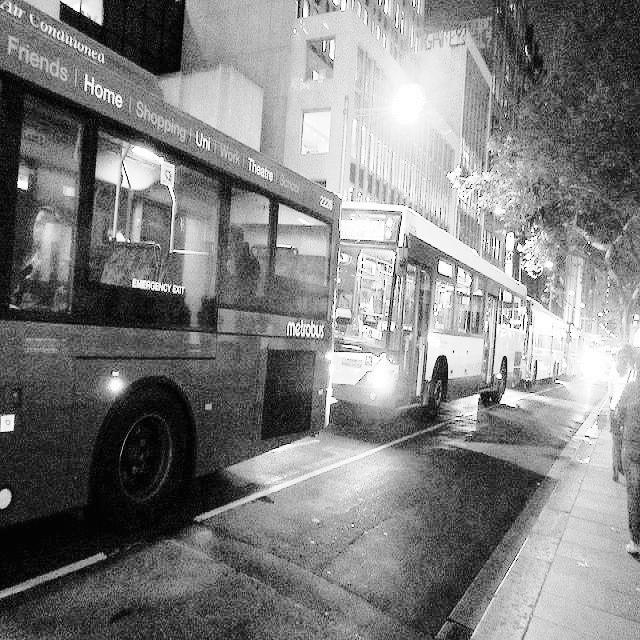Bus: (0, 6, 347, 533), (326, 180, 557, 439), (525, 278, 604, 394)
